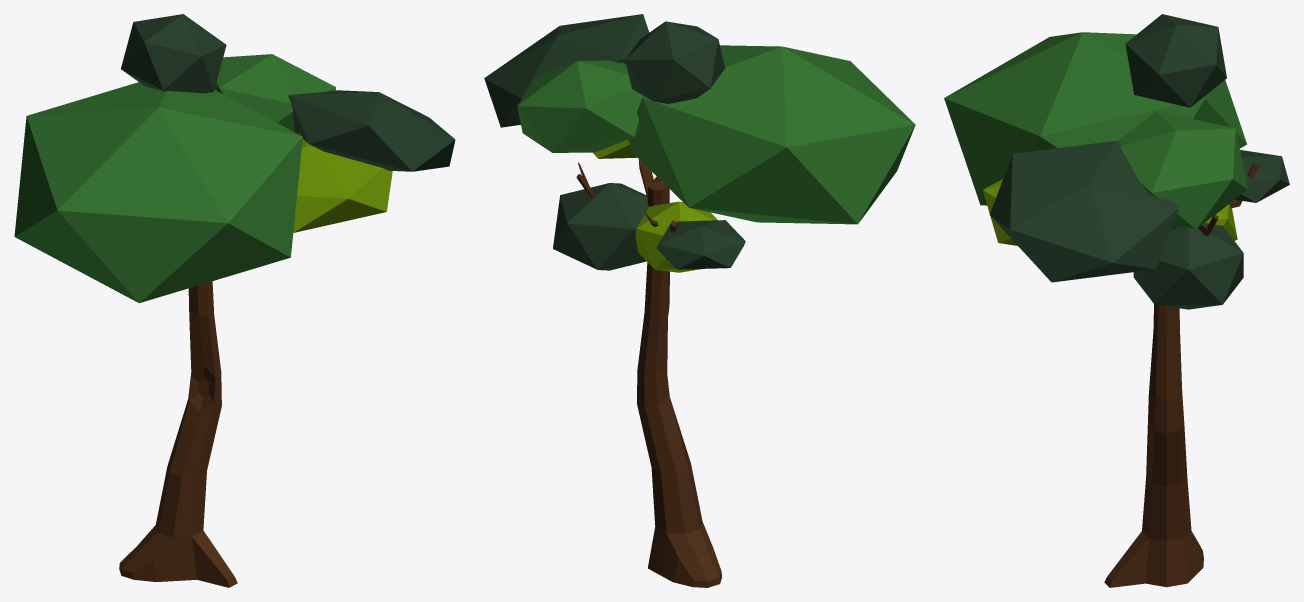
The model's file is M_tree2.fbx.
3 renders of one model, left to right at view 1: azimuth 30°, elevation 25°; view 2: azimuth 150°, elevation 25°; view 3: azimuth 270°, elevation 25°, orthographic.
Parts seen in each view (by area): view 1: Icosphere.007; view 2: Icosphere.007; view 3: Icosphere.007.
Part boxes in pixels (x1,y1,x2,y2): Icosphere.007: (14, 14, 455, 587); Icosphere.007: (484, 14, 915, 587); Icosphere.007: (944, 14, 1289, 587).
Bounding box in the file's own units: 1709 × 2229 × 1264.
